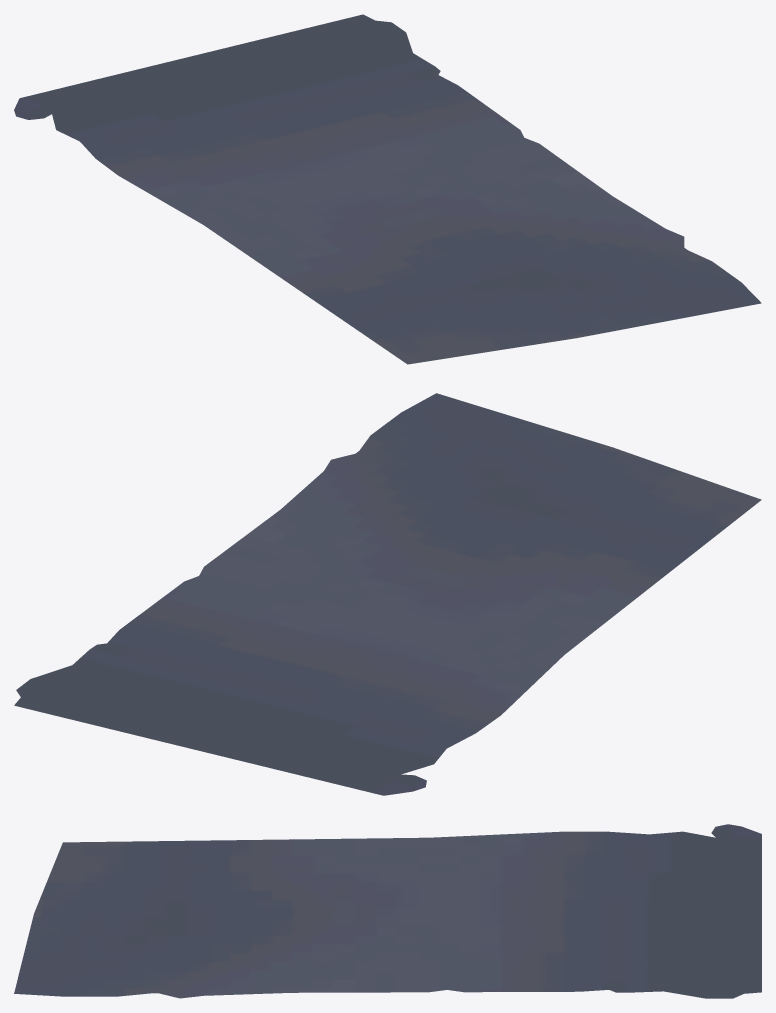
Rendered from WaterPlane_Cb.fbx.
The picture shows the model from 3 angles, top to bottom: view 1: azimuth 30°, elevation 25°; view 2: azimuth 150°, elevation 25°; view 3: azimuth 270°, elevation 25°; orthographic projection. The views are drawn at different scales.
Parts seen in each view (by area): view 1: SM_ENV_AMVLLG02_WaterPlane_Cb.mo; view 2: SM_ENV_AMVLLG02_WaterPlane_Cb.mo; view 3: SM_ENV_AMVLLG02_WaterPlane_Cb.mo.
Part boxes in pixels (bbox=[...]): SM_ENV_AMVLLG02_WaterPlane_Cb.mo: bbox=[14, 14, 761, 364]; SM_ENV_AMVLLG02_WaterPlane_Cb.mo: bbox=[14, 393, 761, 795]; SM_ENV_AMVLLG02_WaterPlane_Cb.mo: bbox=[14, 824, 761, 998].
Bounding box in the file's own units: 6871 × 0.00227 × 12437.
